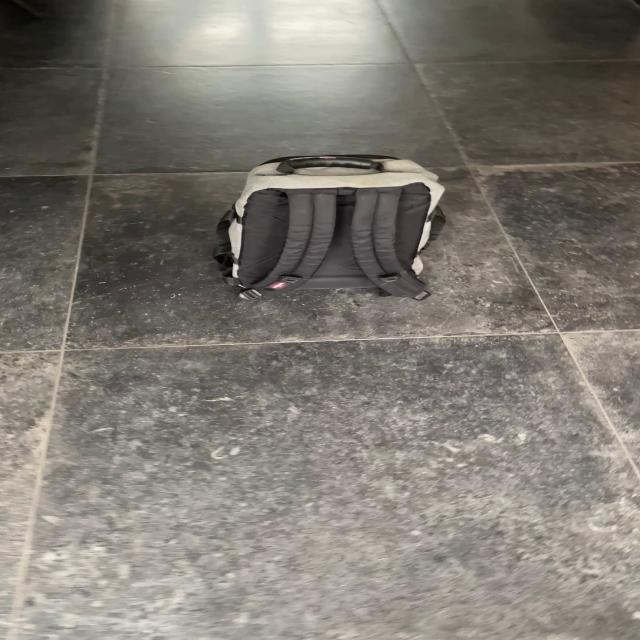backpack: (207, 148, 451, 295)
